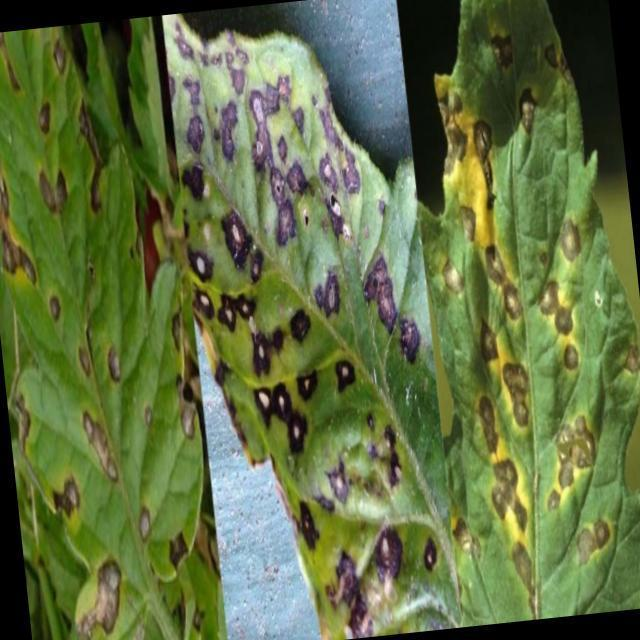Septoria: (433, 195, 589, 388), (294, 424, 443, 626), (428, 18, 578, 195), (439, 376, 547, 616), (196, 238, 322, 438), (245, 72, 363, 238), (162, 27, 258, 225), (50, 392, 158, 558), (5, 25, 86, 235), (308, 229, 422, 376), (542, 394, 622, 574), (44, 272, 132, 392), (80, 554, 135, 640), (0, 173, 35, 288), (168, 368, 200, 452)
